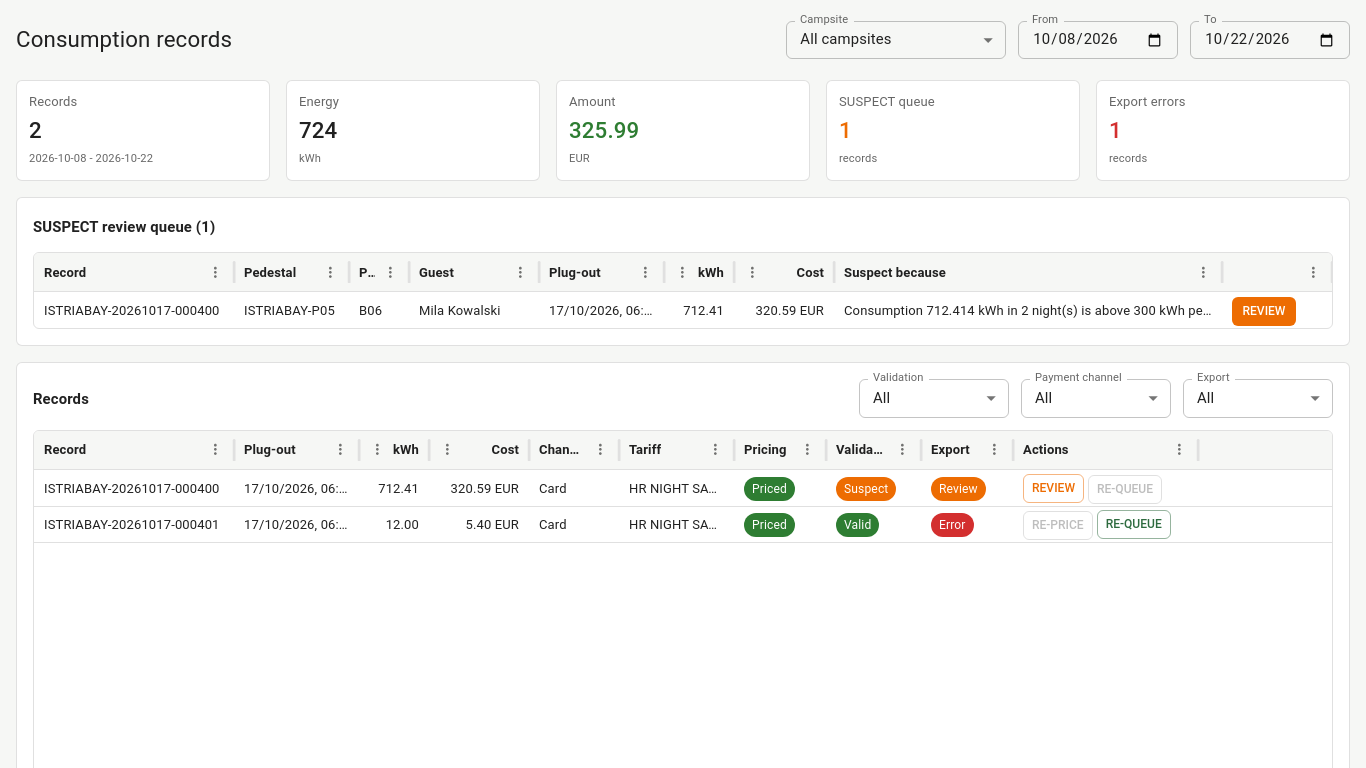
Test: consumption records tab › approves a SUSPECT record with a comment
Click the button with test id "review-400".
click(1264, 312)  # box 1232,297 -> 1296,326
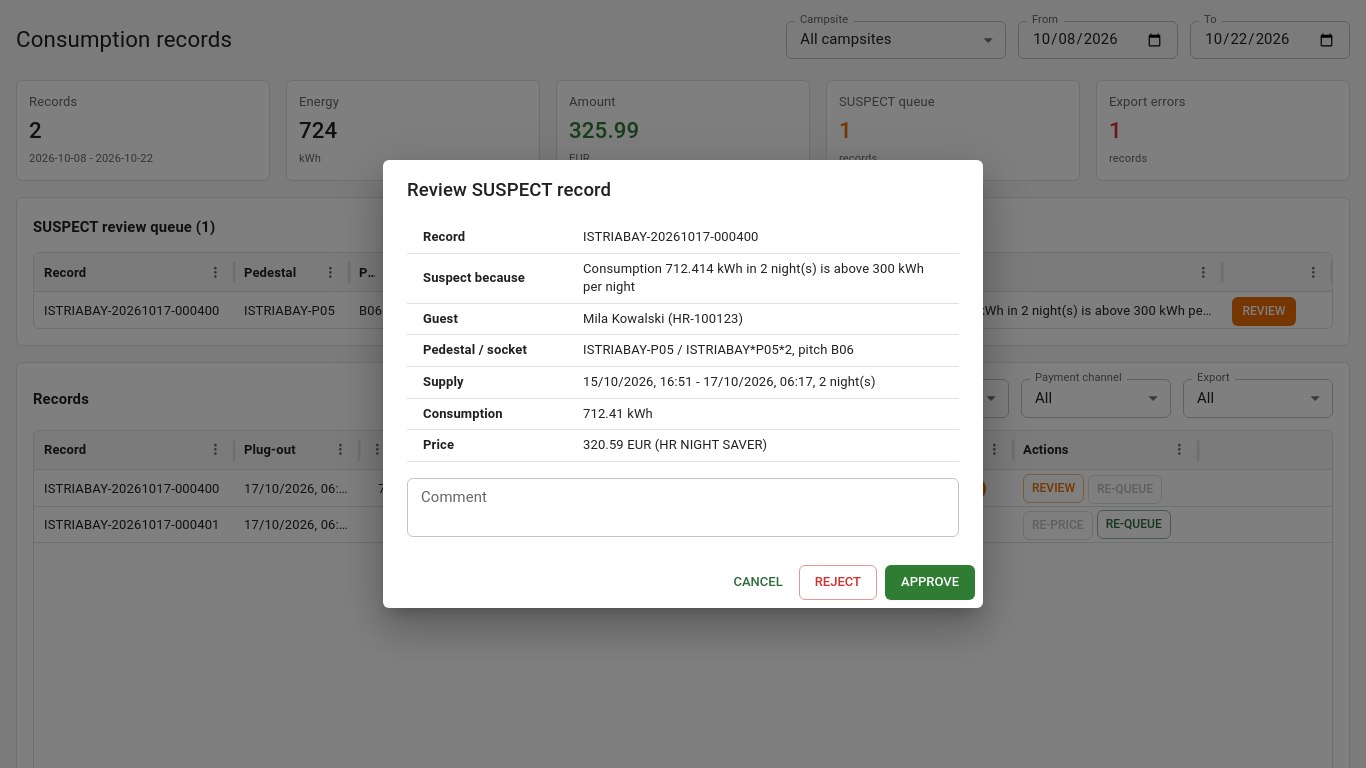
Type "heater in the caravan" into the text box labelled "Comment".
click(683, 507); type("heater in the caravan")  # box 421,486 -> 945,528
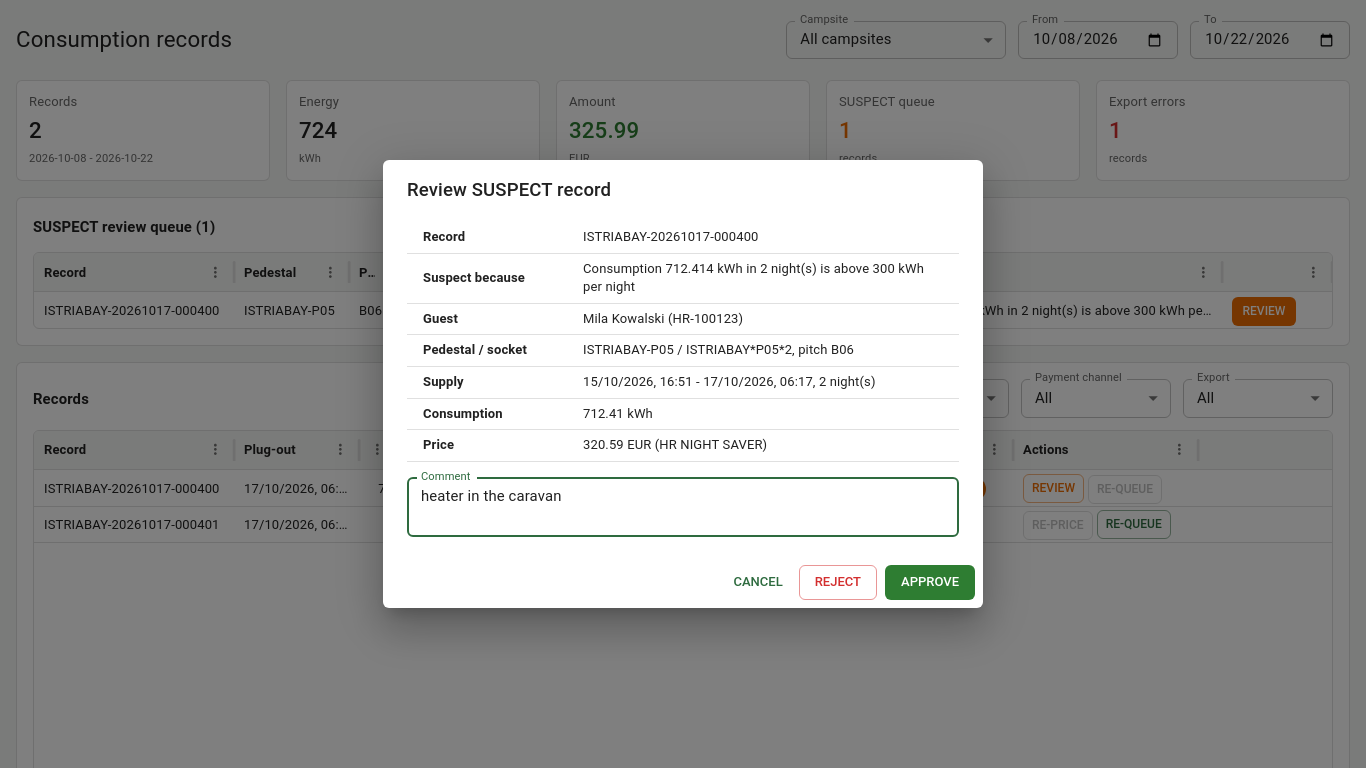
Click the button "Approve".
click(930, 582)  # box 885,565 -> 975,600
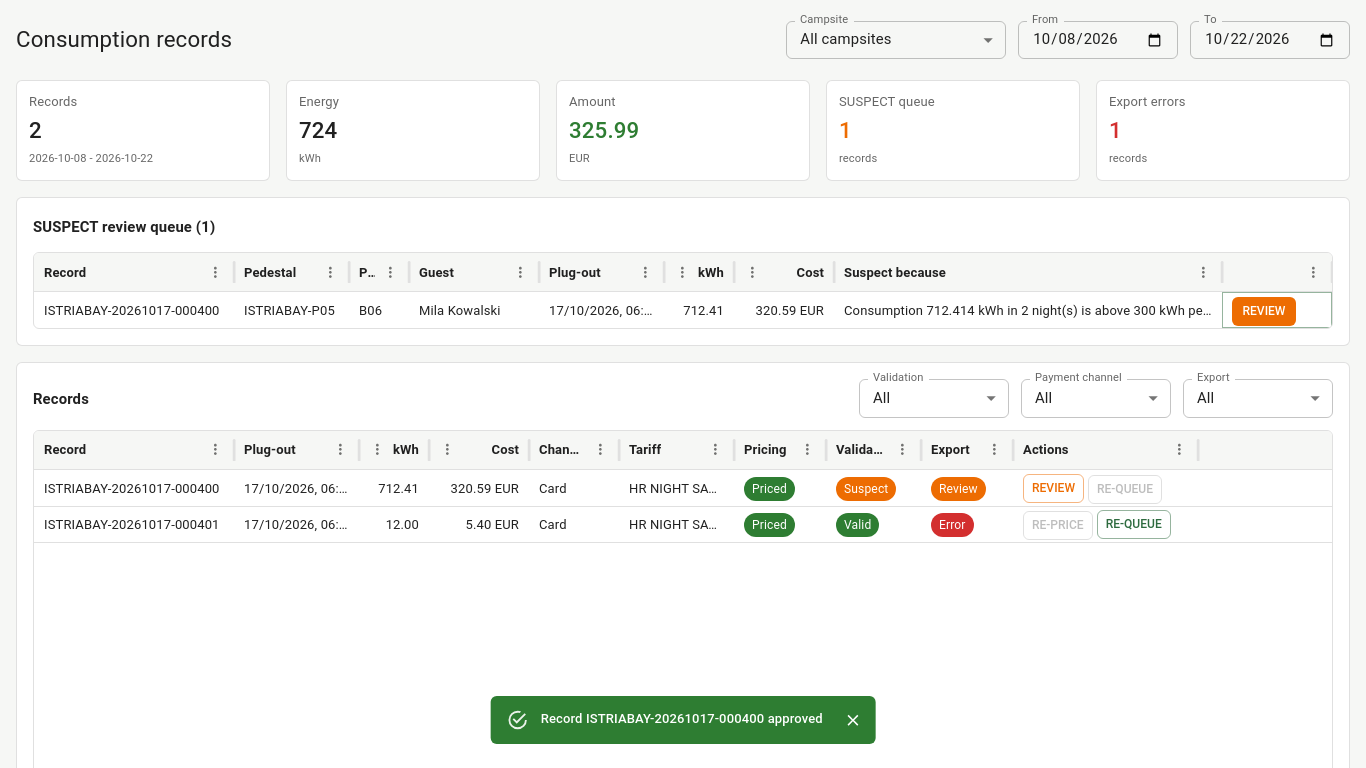
expect the message with test id "notification" shows "approved": met, box 541,711 -> 823,726
